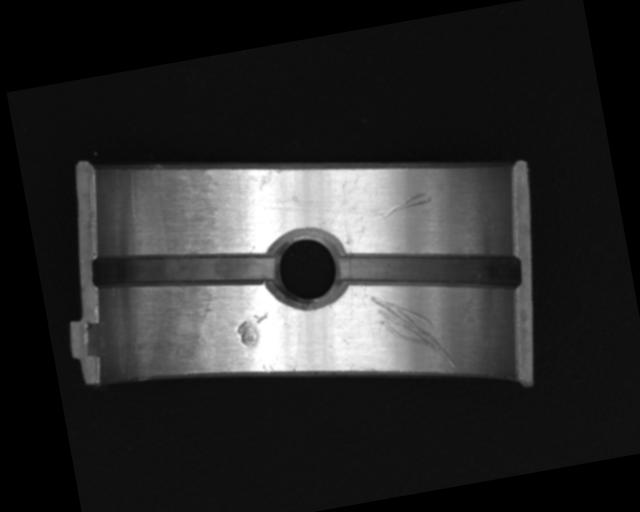bruise: (234, 311, 273, 350)
gap: (337, 226, 523, 315), (90, 227, 275, 307)
hole: (262, 222, 350, 316)
nick: (370, 282, 455, 378), (374, 189, 434, 220)
